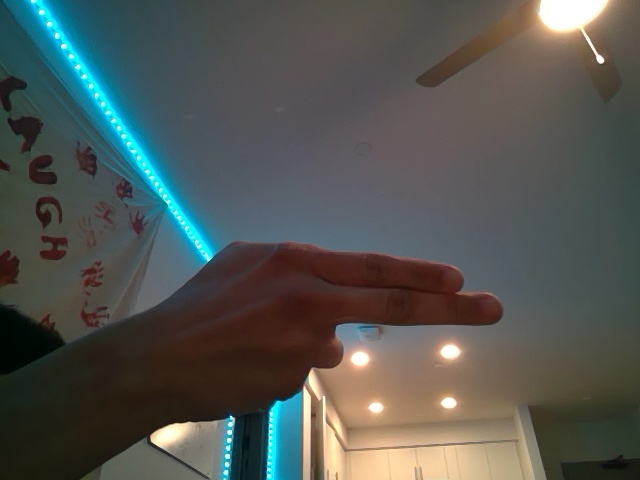h: (133, 238, 503, 426)
